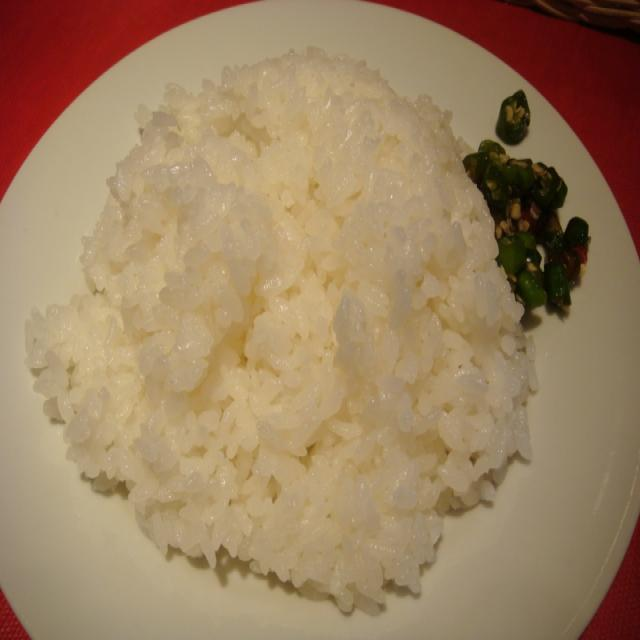Rice: (61, 44, 504, 586)
